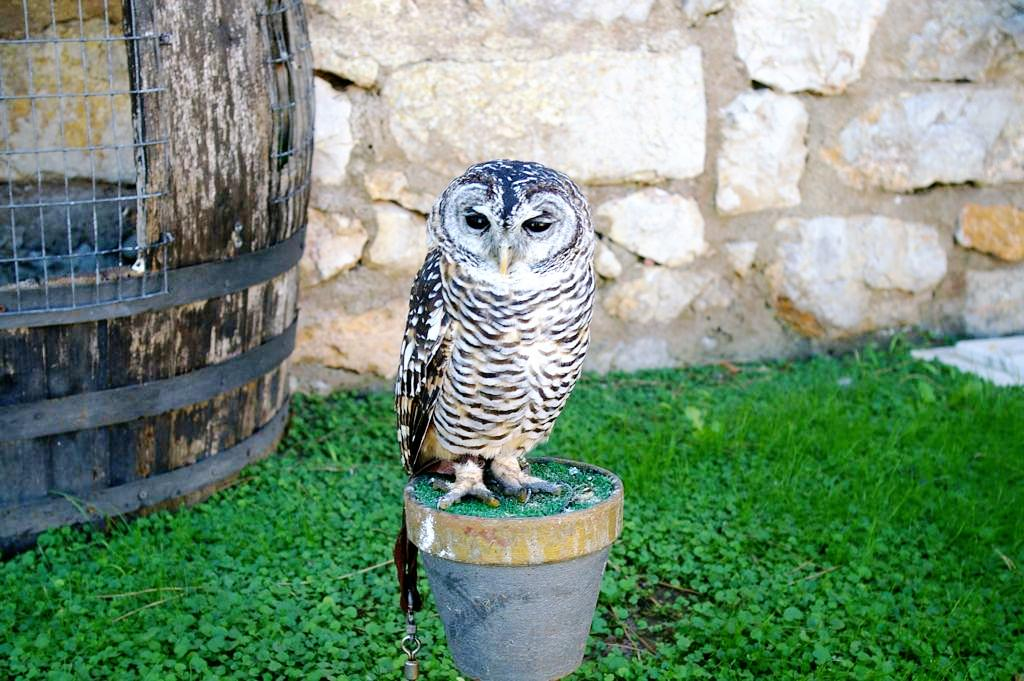Owl: (391, 156, 596, 508)
